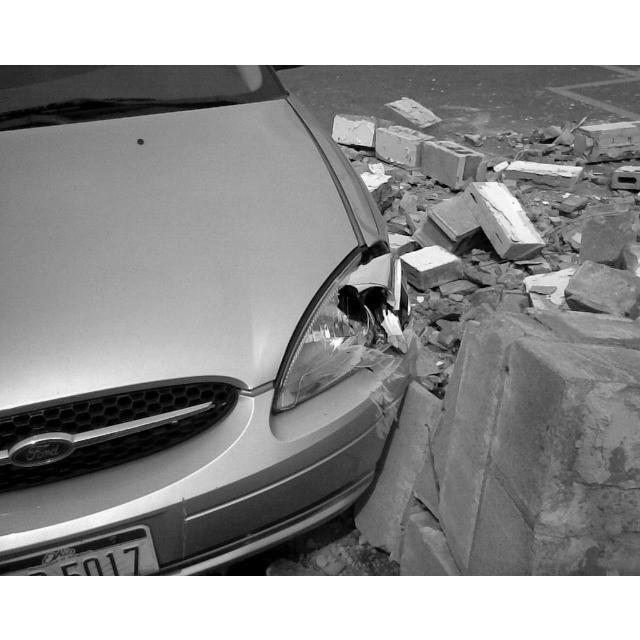Headlight-damage: (238, 216, 434, 428)
